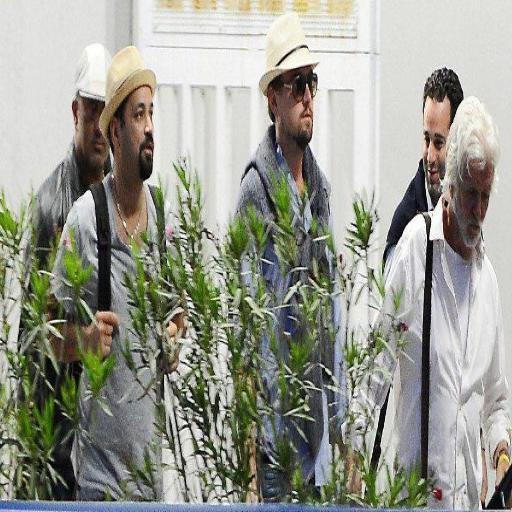person: (53, 46, 162, 500), (427, 98, 510, 509), (236, 13, 335, 281), (33, 44, 111, 268), (384, 67, 463, 274)
